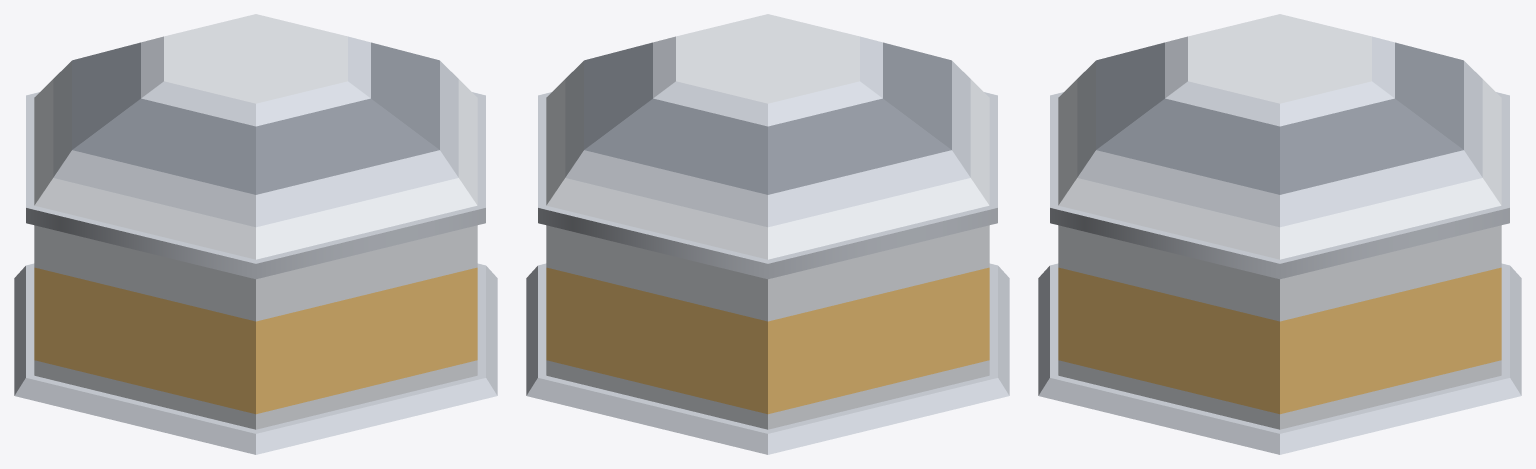
Rendered from hangar_roundB.gltf.
The picture shows the model from 3 angles, left to right: view 1: azimuth 30°, elevation 25°; view 2: azimuth 150°, elevation 25°; view 3: azimuth 270°, elevation 25°; orthographic projection.
Parts seen in each view (by area): view 1: hangar_roundB; view 2: hangar_roundB; view 3: hangar_roundB.
Part boxes in pixels (left/top/right/bottom): hangar_roundB: left=14, top=14, right=497, bottom=454; hangar_roundB: left=526, top=14, right=1009, bottom=454; hangar_roundB: left=1038, top=14, right=1521, bottom=454.
Size of the model in its own units: 3.27 by 1.8 by 2.83.
